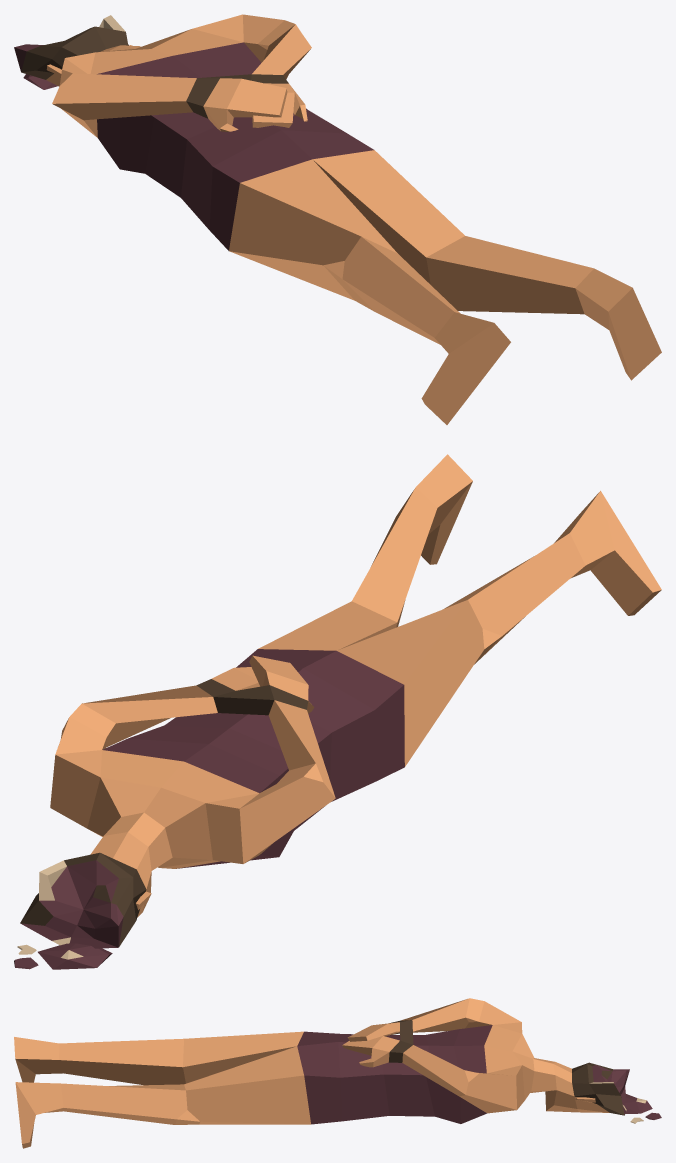
The model's file is woman-swimming-dead-b.fbx.
The picture shows the model from 3 angles, top to bottom: view 1: azimuth 30°, elevation 25°; view 2: azimuth 150°, elevation 25°; view 3: azimuth 270°, elevation 25°; orthographic projection. The views are drawn at different scales.
Parts seen in each view (by area): view 1: woman-swimming-dead-b; view 2: woman-swimming-dead-b; view 3: woman-swimming-dead-b.
Part boxes in pixels (bbox=[...]): woman-swimming-dead-b: bbox=[14, 14, 661, 424]; woman-swimming-dead-b: bbox=[14, 454, 661, 969]; woman-swimming-dead-b: bbox=[14, 998, 661, 1148].
Size of the model in its own units: 0.6125 by 0.2839 by 1.89.
